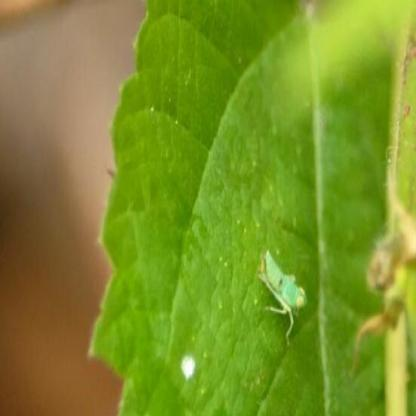Green-Leafhopper: (259, 242, 307, 339)
